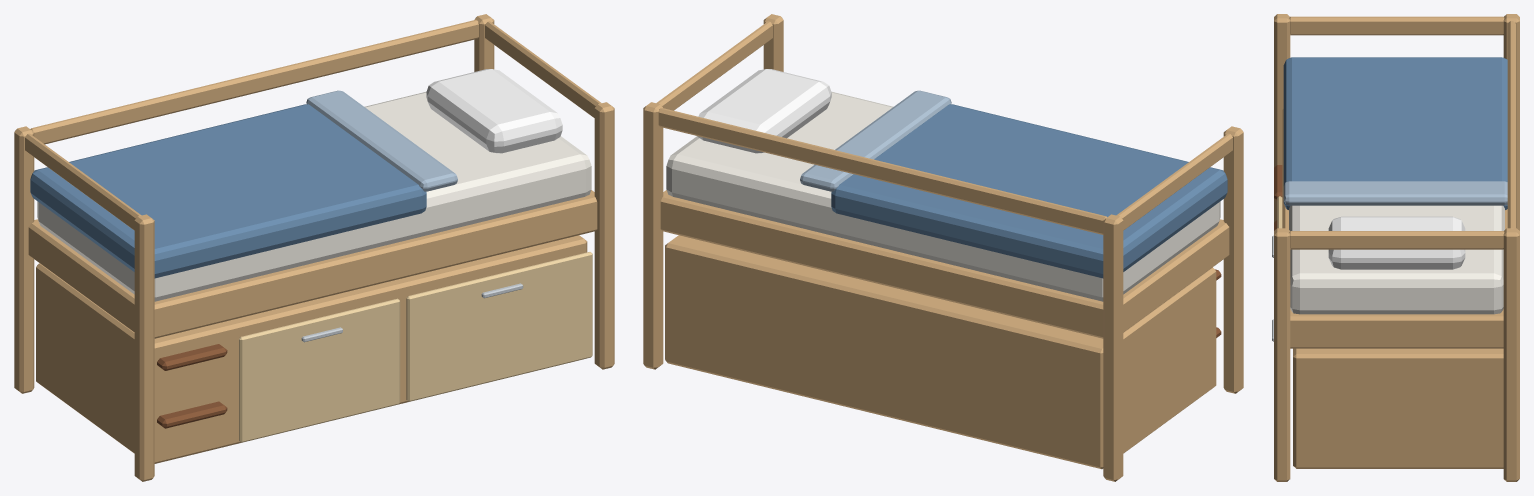
The model's file is high_bed.glb.
3 renders of one model, left to right at view 1: azimuth 30°, elevation 25°; view 2: azimuth 150°, elevation 25°; view 3: azimuth 270°, elevation 25°, orthographic. The views are drawn at different scales.
Visible parts, largest first — view 1: high_bed_Body; view 2: high_bed_Body; view 3: high_bed_Body.
Part boxes in pixels (left/top/right/bottom): high_bed_Body: left=14, top=14, right=614, bottom=481; high_bed_Body: left=643, top=14, right=1243, bottom=481; high_bed_Body: left=1272, top=14, right=1519, bottom=481.
Bounding box in the file's own units: 1.9 × 1 × 0.9.
